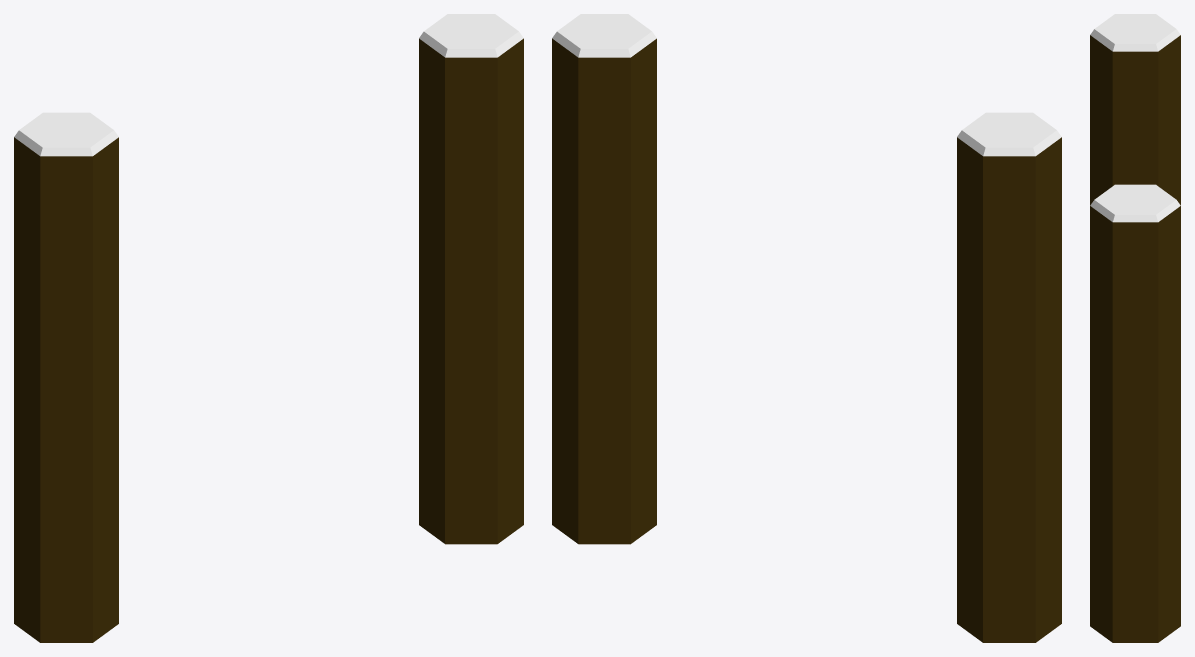
Rendered from Bridge_Post_Snow.fbx.
The picture shows the model from 3 angles, left to right: view 1: azimuth 30°, elevation 25°; view 2: azimuth 150°, elevation 25°; view 3: azimuth 270°, elevation 25°; orthographic projection. The views are drawn at different scales.
Parts seen in each view (by area): view 1: Bridge_Post_Snow; view 2: Bridge_Post_Snow; view 3: Bridge_Post_Snow.
Boxes of the visible parts, bbox=[...] form: Bridge_Post_Snow: bbox=[14, 14, 523, 642]; Bridge_Post_Snow: bbox=[552, 14, 1061, 642]; Bridge_Post_Snow: bbox=[1090, 14, 1180, 642].
Bounding box in the file's own units: 3.58 × 3.49 × 0.6743.
